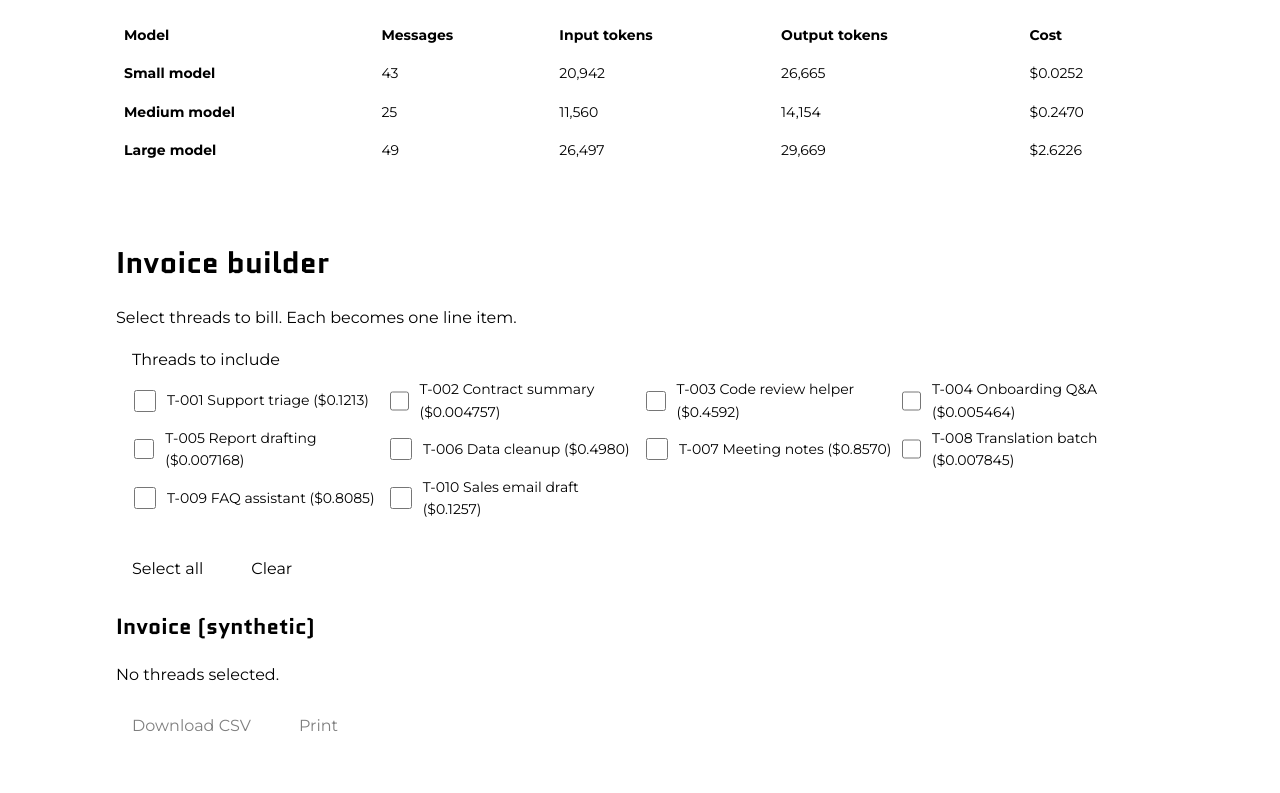
Test case: AiBillingLab › builds an invoice from selected threads
(page scrolled)
Expected: the text "No threads selected." is shown, [116, 665, 279, 684]
What coordinates should you click on to do the following:
click the checkbox labelled "T-001 Support triage ($0.1213)"
I would click on:
 (145, 400)
Its box is [134, 390, 156, 412].
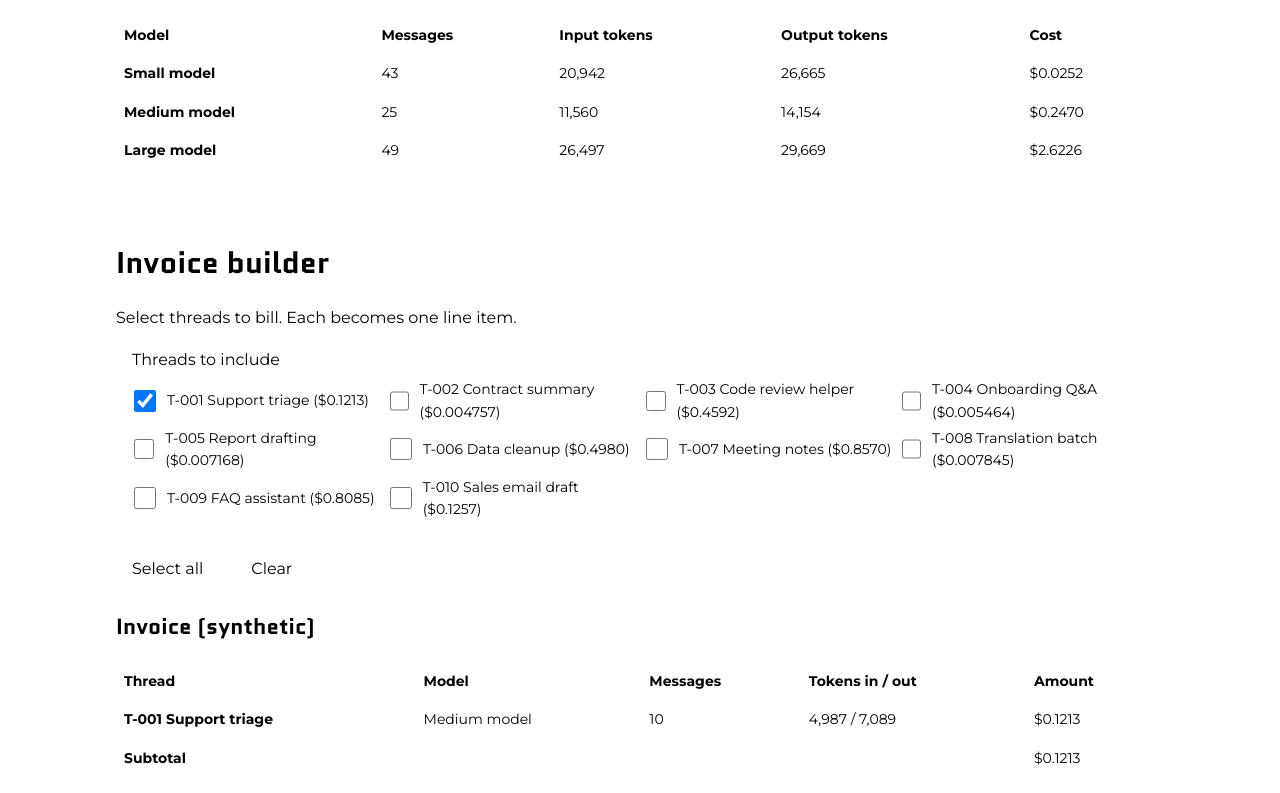
Result: the column heading "Subtotal" is shown at [116, 739, 1026, 777]
What coordinates should you click on to do the following:
click the button "Clear"
I would click on:
 (272, 568)
Its box is [235, 546, 308, 590].
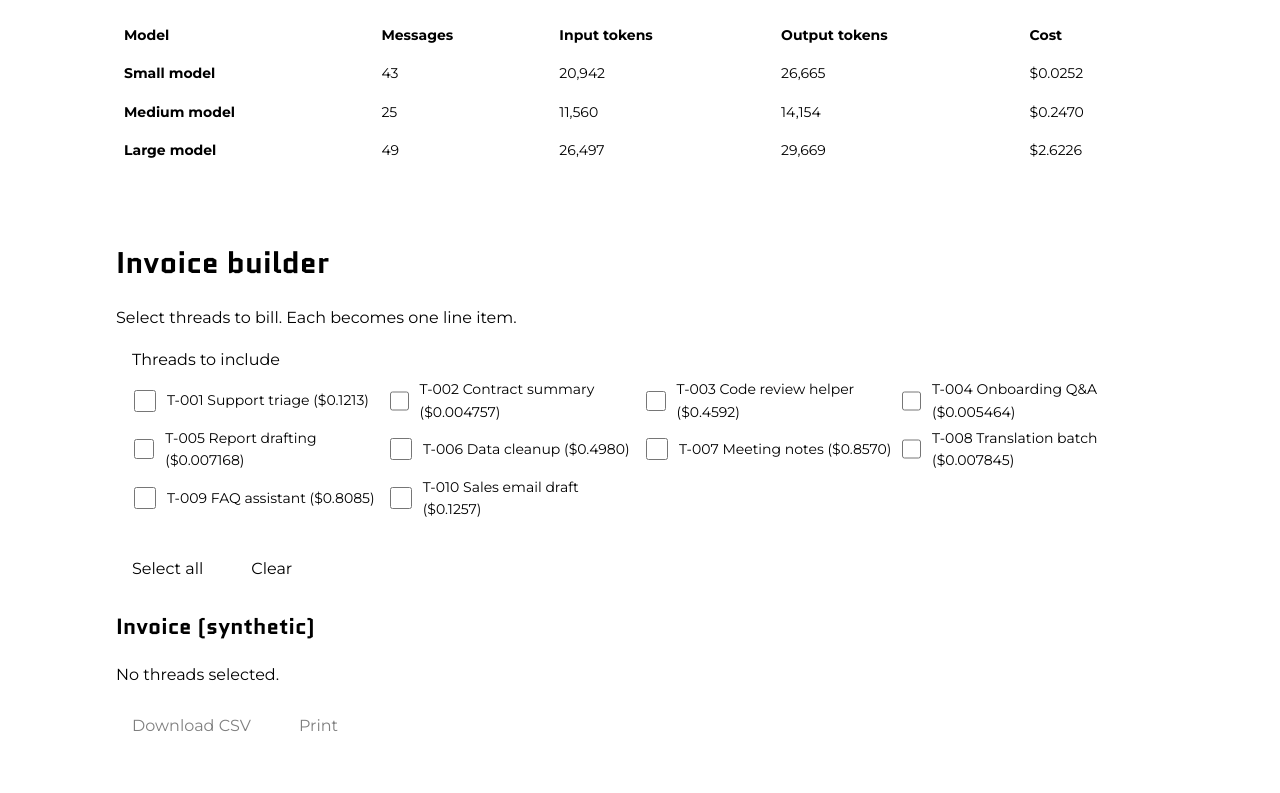
Result: the text "No threads selected." is shown at [116, 665, 279, 684]
